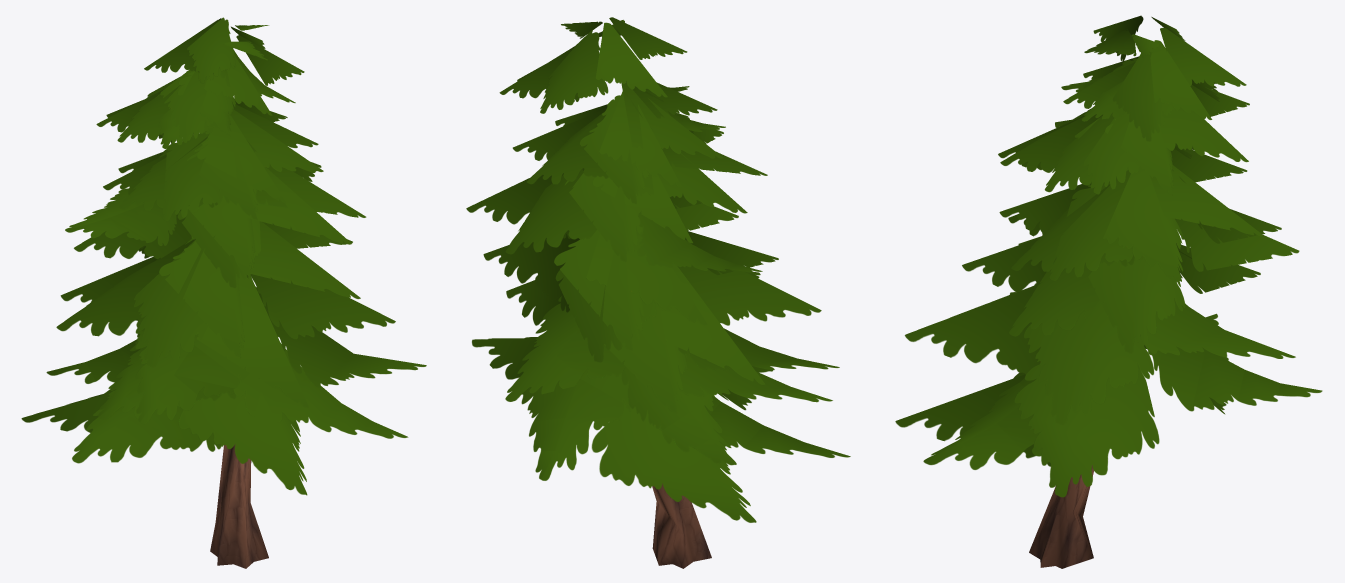
Rendered from spruce-4.glb.
3 renders of one model, left to right at view 1: azimuth 30°, elevation 25°; view 2: azimuth 150°, elevation 25°; view 3: azimuth 270°, elevation 25°, orthographic. The views are drawn at different scales.
Parts seen in each view (by area): view 1: Pine_5; view 2: Pine_5; view 3: Pine_5.
Boxes of the visible parts, x1,y1,x2,y2 form: Pine_5: (21,17,426,568); Pine_5: (466,17,850,568); Pine_5: (895,15,1322,568).
Bounding box in the file's own units: 6.42 × 8.65 × 6.22.
2 materials, 2 textured.
